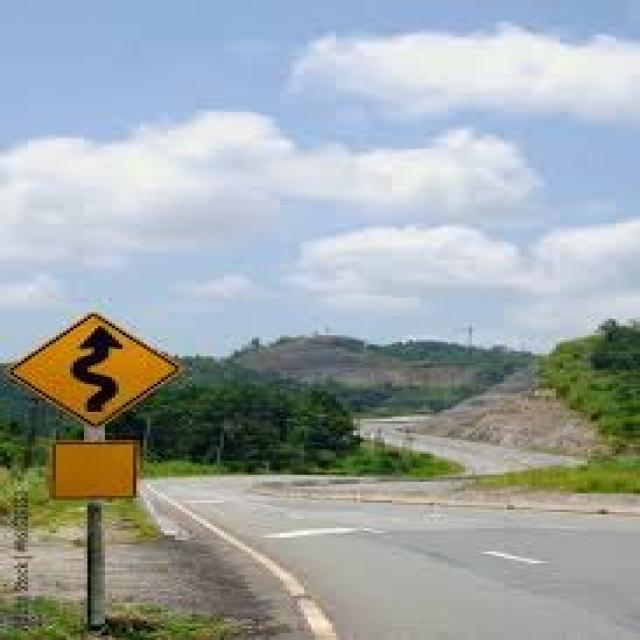left_sharp_curve: (10, 302, 187, 428)
